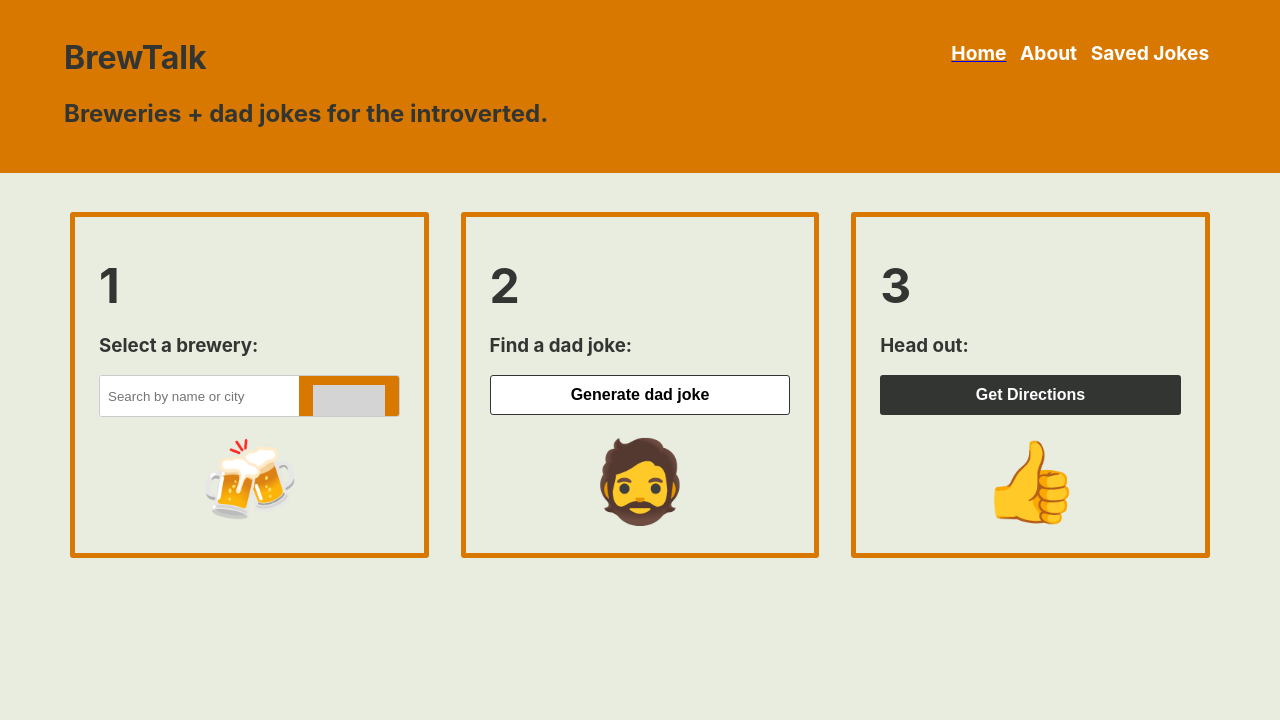
Scenario: Homepage: Step 2 › Should render a random dad joke when button is clicked
Check: the heading with class "number" reads "2", box [490,256,520,315]
Check: the heading with class "steps-section" reads "Find a dad joke:", box [490,334,632,357]
Click the button named "getJoke".
click(641, 395)  # box [490,375,791,415]
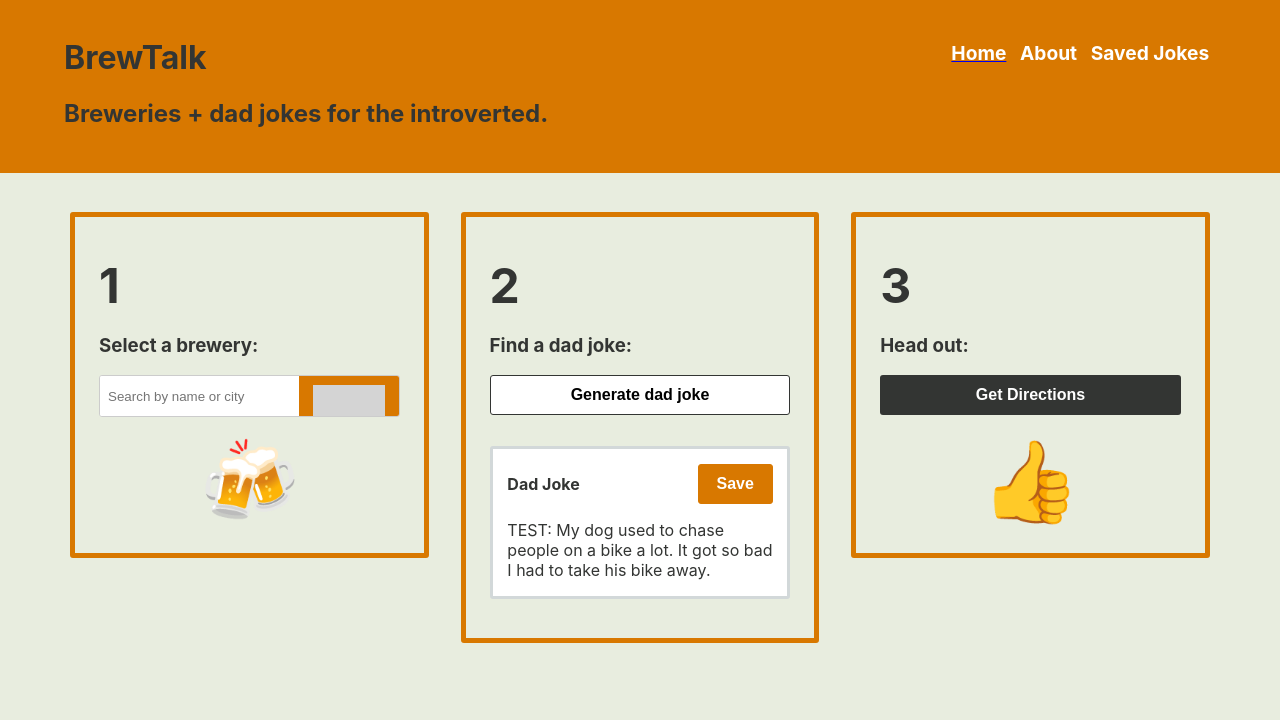
Check: the text with class "card-contents" shows "TEST: My dog used to chase people on a bike a lot. It got so bad I had to take his bike away.", box [493,520,788,580]
